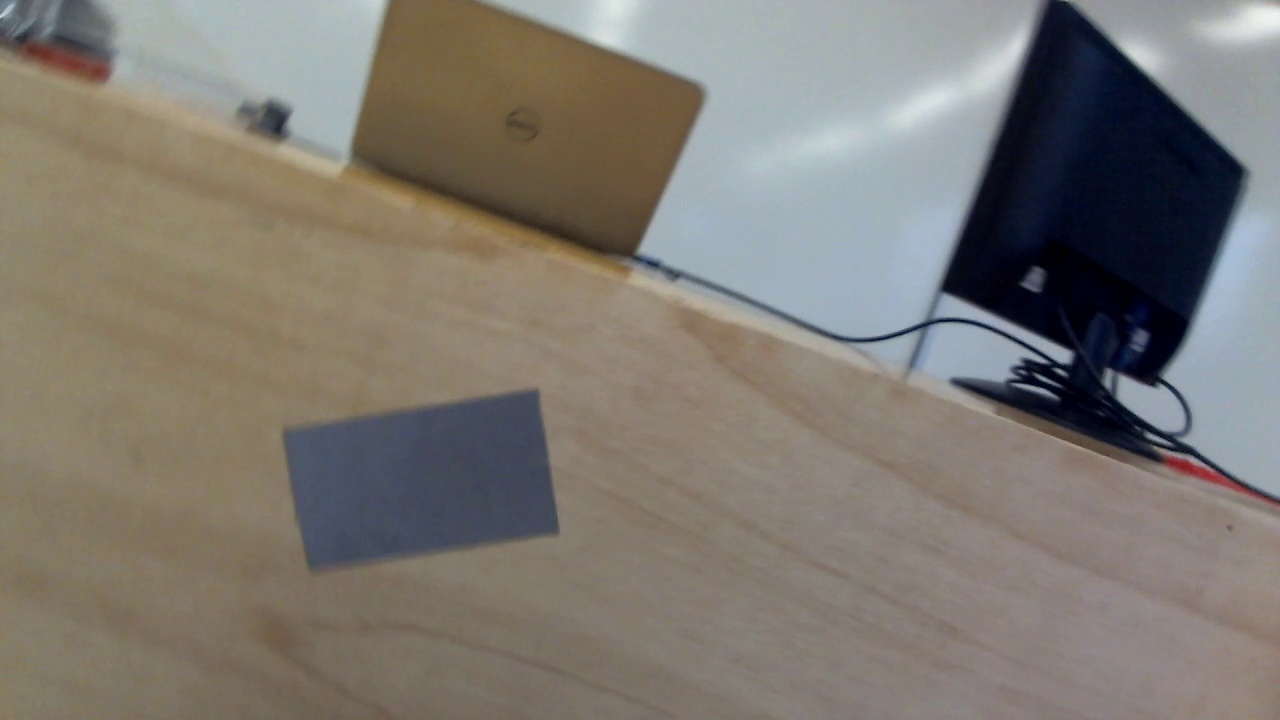Tape: (282, 386, 563, 574)
